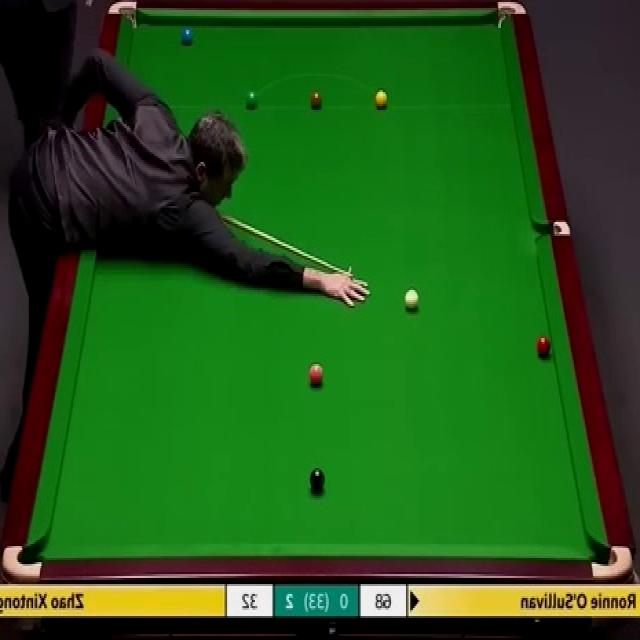black-ball: (309, 467, 326, 493)
blue-ball: (181, 27, 194, 44)
brown-ball: (309, 88, 324, 110)
green-ball: (245, 90, 260, 110)
pink-ball: (309, 363, 325, 386)
red-ball: (536, 336, 552, 360)
white-ball: (403, 285, 420, 312)
yellow-ball: (375, 88, 388, 109)
